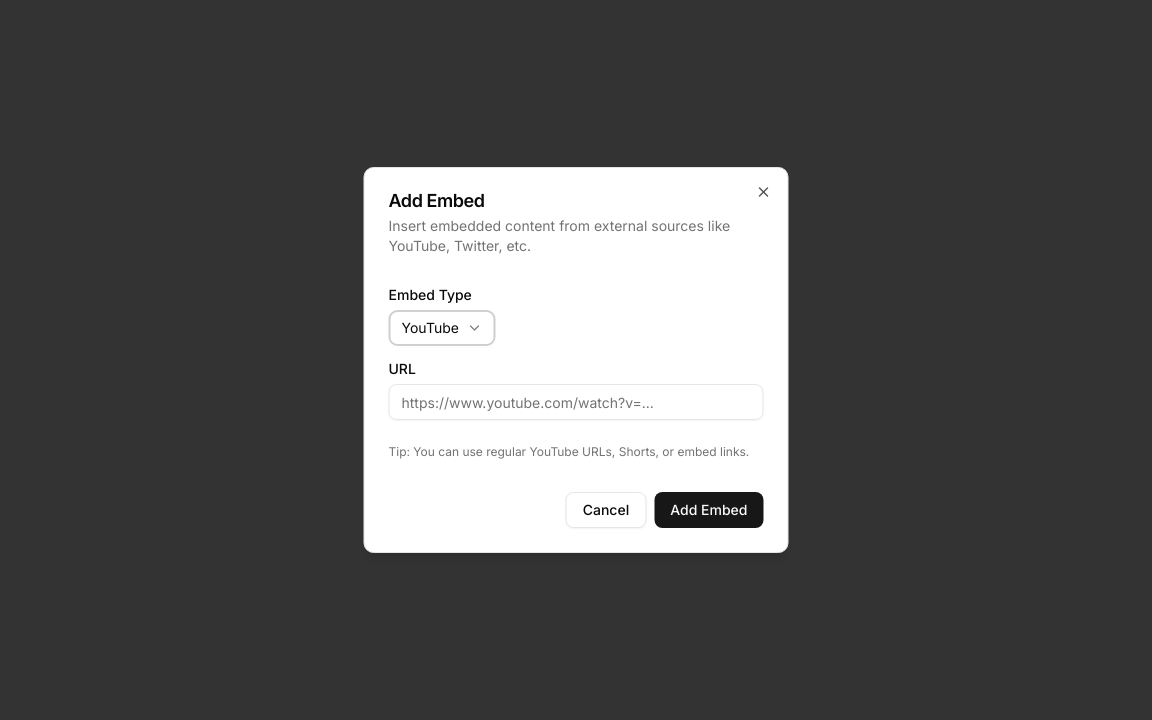
EmbedDialog Component › shows error when submitting without URL
Submit without entering URL
What coordinates should you click on to do the following:
click the button "Add Embed"
I would click on:
 (709, 510)
Its box is [654,492,764,528].
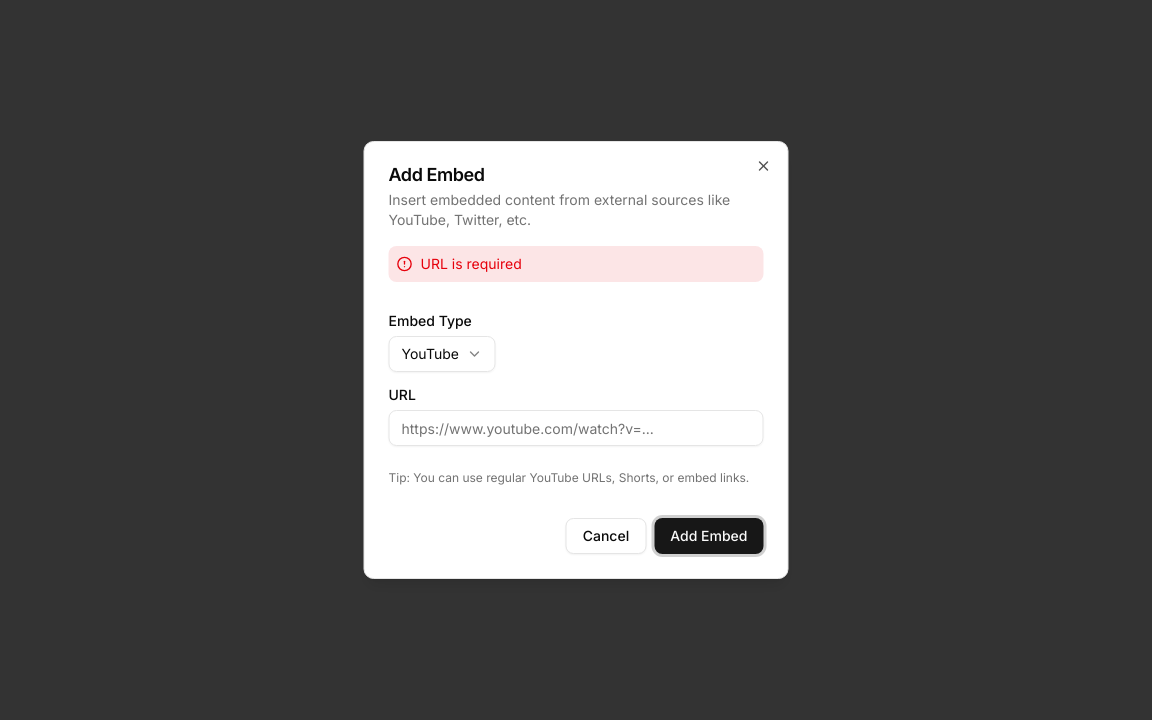
Expected: the text "URL is required" is shown, [420,254,522,274]
